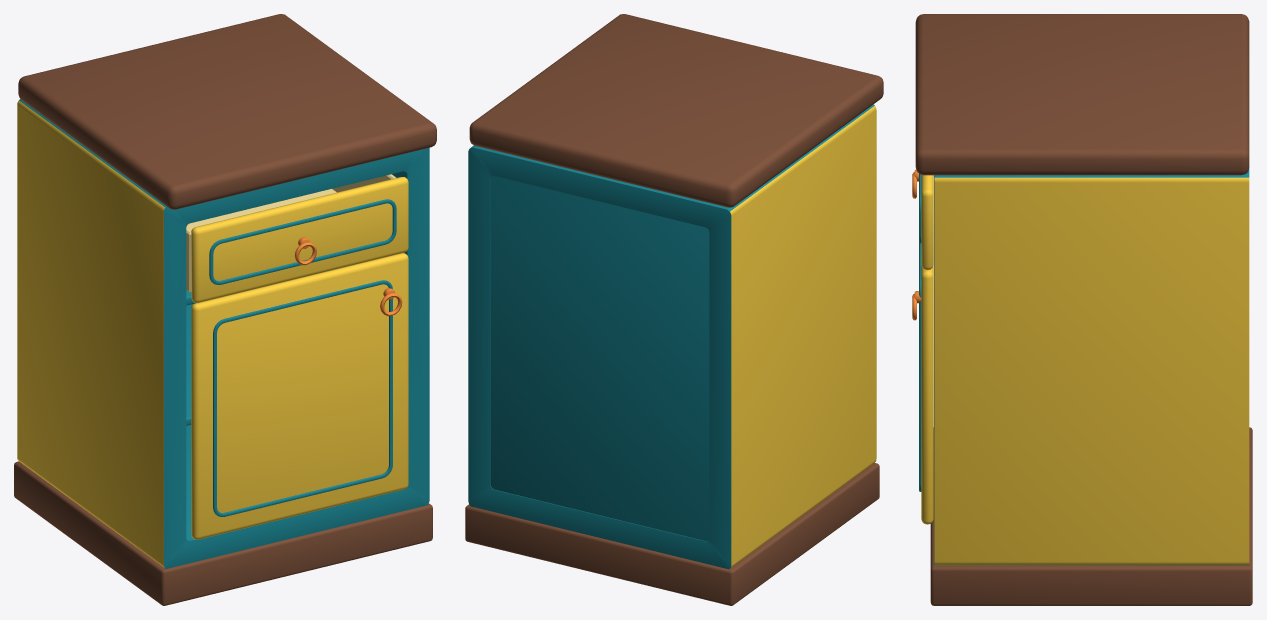
File: armario_cozinha_base_gaveta_porta_colonial.glb
3 renders of one model, left to right at view 1: azimuth 30°, elevation 25°; view 2: azimuth 150°, elevation 25°; view 3: azimuth 270°, elevation 25°, orthographic. The views are drawn at different scales.
Visible parts, largest first — view 1: armario_cozinha_base_gaveta_porta_colonial, porta_1, gaveta_1; view 2: armario_cozinha_base_gaveta_porta_colonial; view 3: armario_cozinha_base_gaveta_porta_colonial, porta_1, gaveta_1.
Boxes of the visible parts, bbox=[...] form: armario_cozinha_base_gaveta_porta_colonial: bbox=[14, 14, 436, 605]; porta_1: bbox=[191, 253, 408, 539]; gaveta_1: bbox=[186, 174, 408, 302]; armario_cozinha_base_gaveta_porta_colonial: bbox=[465, 14, 883, 605]; armario_cozinha_base_gaveta_porta_colonial: bbox=[915, 14, 1252, 605]; porta_1: bbox=[912, 243, 933, 524]; gaveta_1: bbox=[912, 169, 933, 270].
Size of the model in its own units: 0.604 by 0.9 by 0.6112.
Materials: 1 (1 with a texture image).
